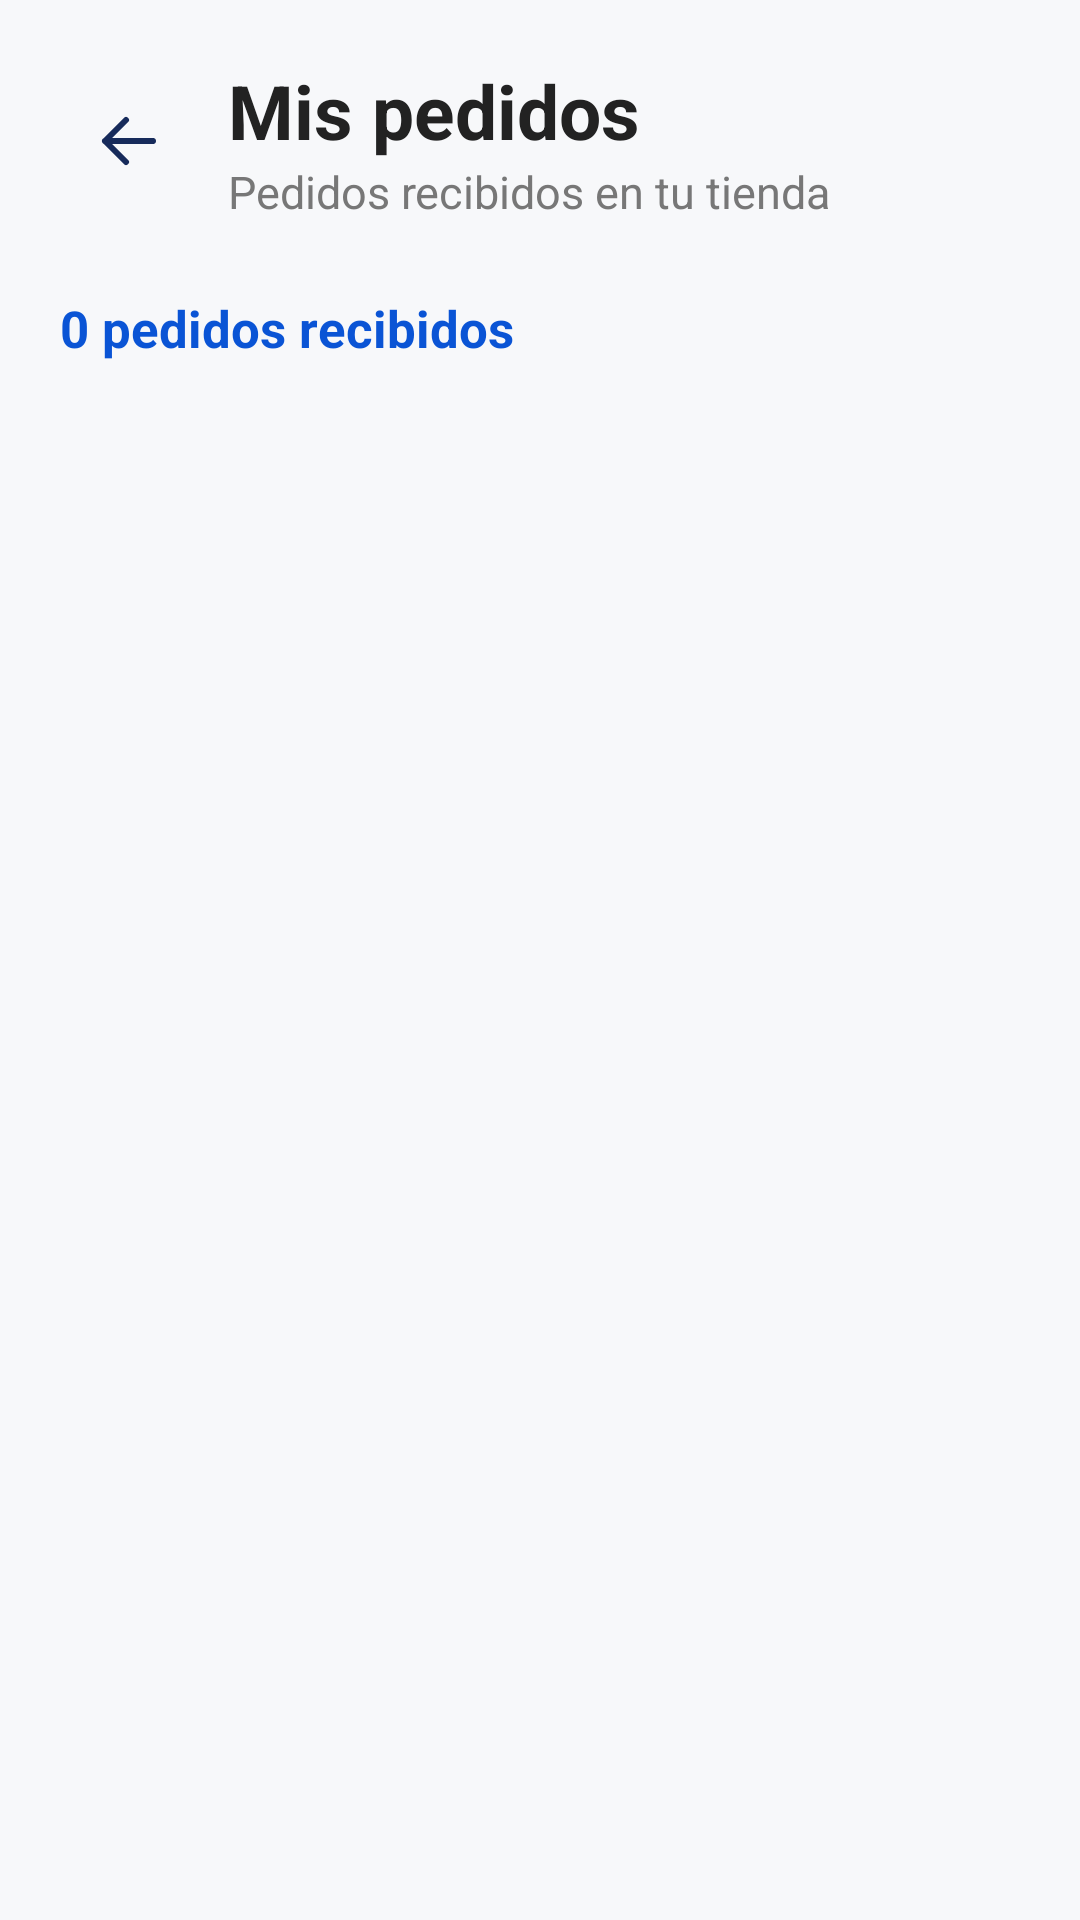

Icons on this 1080 x 1920 Android screen, each with the point to tap as (x,y):
Volver: (129,141)
